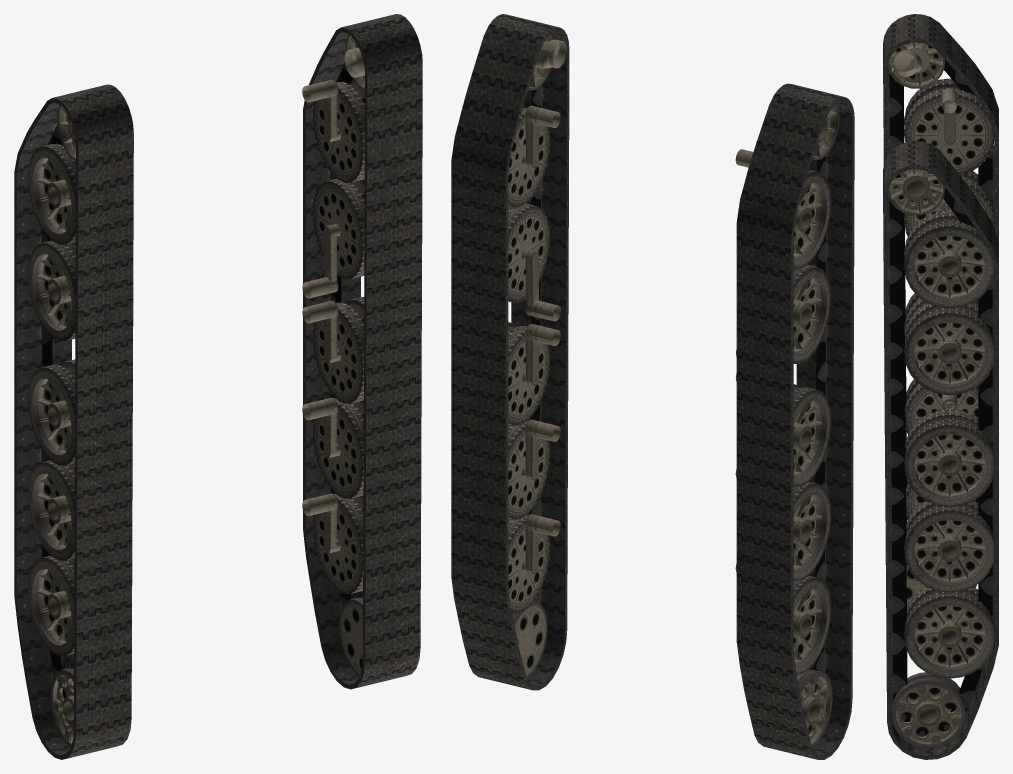
Rendered from Chassis.glb.
3 views of the same model, side by side, from view 1: azimuth 30°, elevation 25°; view 2: azimuth 150°, elevation 25°; view 3: azimuth 270°, elevation 25° (orthographic). The views are drawn at different scales.
Parts seen in each view (by area): view 1: set_0_group_0, set_1_group_0, set_3_group_0, set_2_group_0; view 2: set_0_group_0, set_1_group_0, set_3_group_0, set_2_group_0; view 3: set_3_group_0, set_1_group_0, set_2_group_0, set_0_group_0.
Part boxes in pixels (box(x1,y1,x2,y2)): set_0_group_0: box(14, 84, 133, 759); set_1_group_0: box(303, 14, 422, 689); set_3_group_0: box(302, 35, 364, 676); set_2_group_0: box(28, 105, 75, 746); set_0_group_0: box(736, 83, 854, 759); set_1_group_0: box(451, 14, 569, 690); set_3_group_0: box(508, 34, 566, 678); set_2_group_0: box(735, 104, 839, 747); set_3_group_0: box(887, 169, 994, 748); set_1_group_0: box(883, 141, 998, 759); set_2_group_0: box(887, 42, 994, 607); set_0_group_0: box(883, 14, 998, 587).
Size of the model in its own units: 3.11 by 5.71 by 1.01.
Materials: 4 (4 with a texture image).
